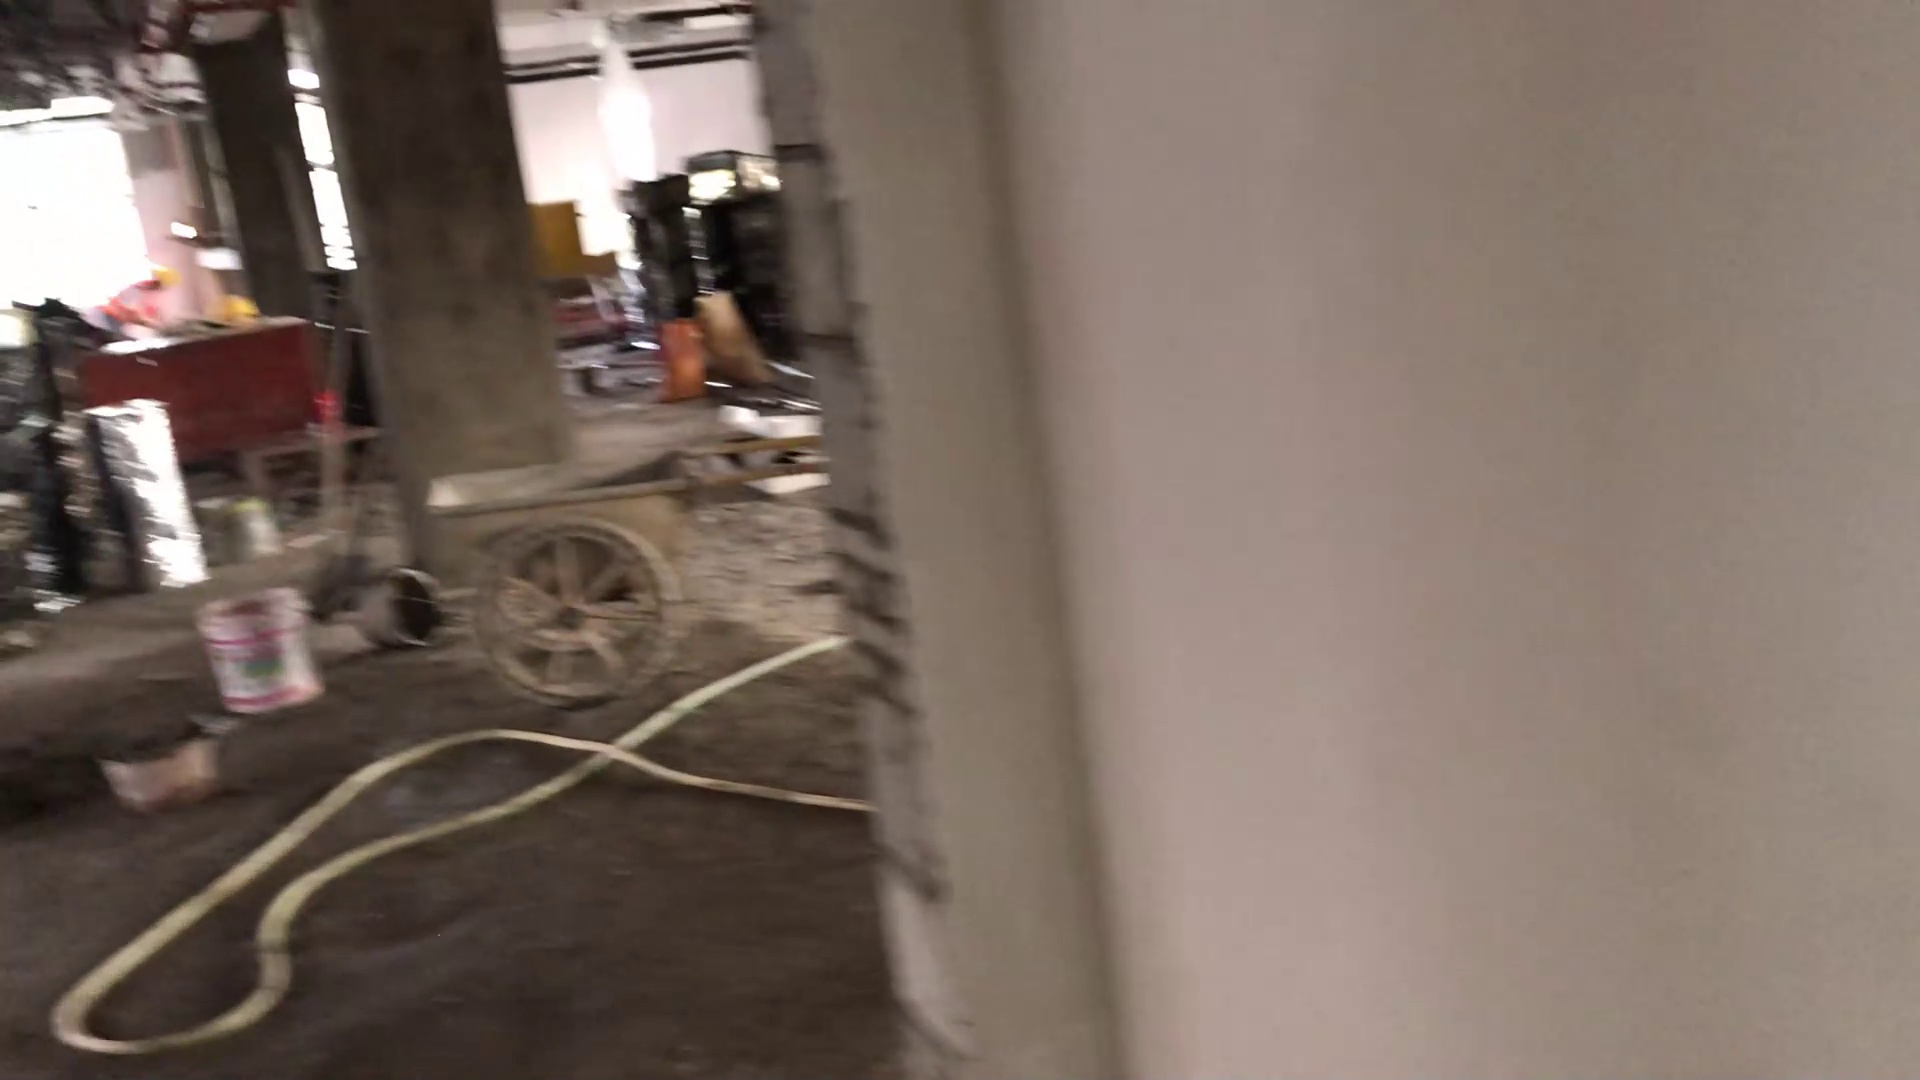handcart: (411, 437, 803, 699)
helmet: (204, 299, 266, 324)
person: (82, 265, 185, 333)
vest: (91, 282, 160, 319)
